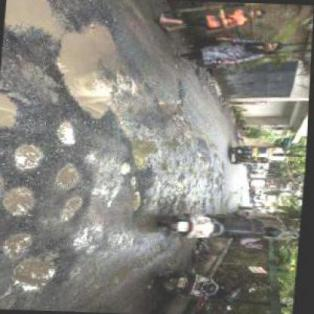Hueco: (52, 18, 133, 121), (12, 247, 72, 297), (2, 0, 63, 38), (123, 125, 169, 174), (5, 186, 42, 218), (0, 90, 27, 132), (16, 143, 49, 172), (5, 232, 39, 260), (60, 194, 91, 224), (59, 162, 87, 192), (58, 122, 80, 146), (0, 162, 11, 204), (132, 192, 148, 214), (122, 164, 134, 177), (132, 176, 138, 187)
